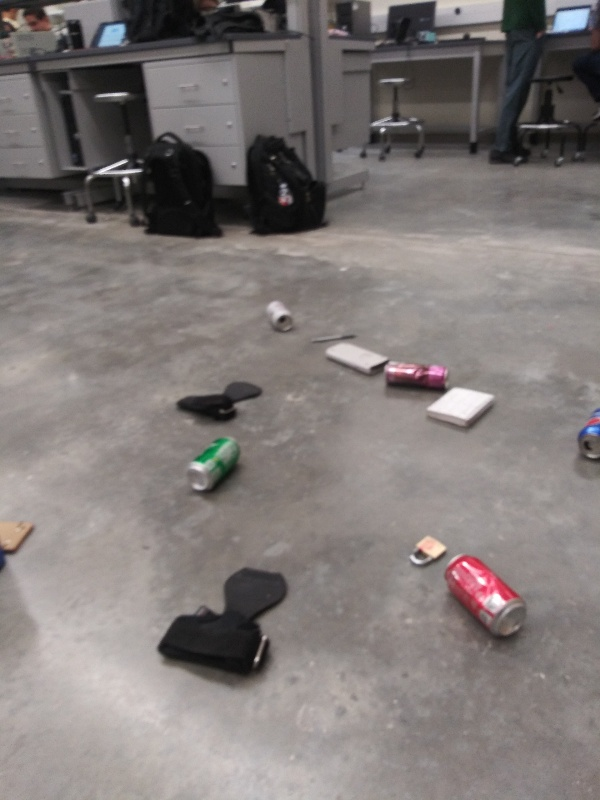can: (439, 548, 532, 641), (184, 431, 248, 497), (381, 357, 452, 395), (573, 403, 600, 465), (261, 297, 297, 333)
